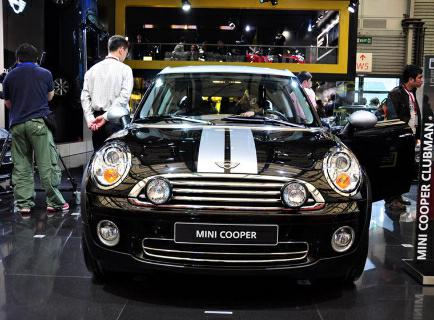MINI CLUBMAN: (86, 73, 374, 298)
